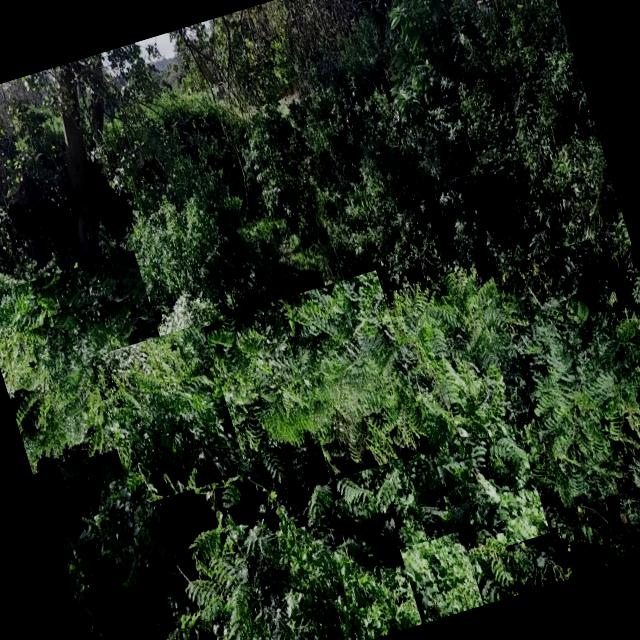Mysore-Thorn-Weed: (354, 267, 550, 567), (151, 428, 381, 640), (0, 249, 187, 473), (491, 238, 640, 510), (277, 270, 431, 480), (89, 320, 255, 507), (202, 303, 322, 464), (399, 530, 484, 623)
